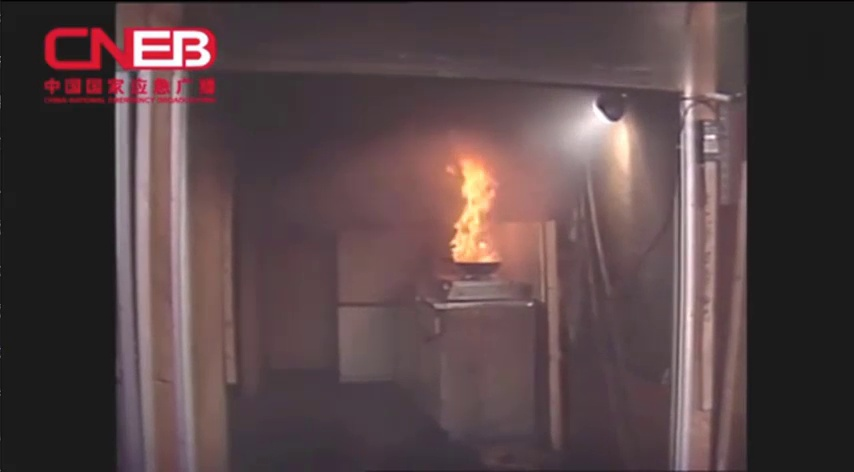fire: (437, 126, 510, 276)
